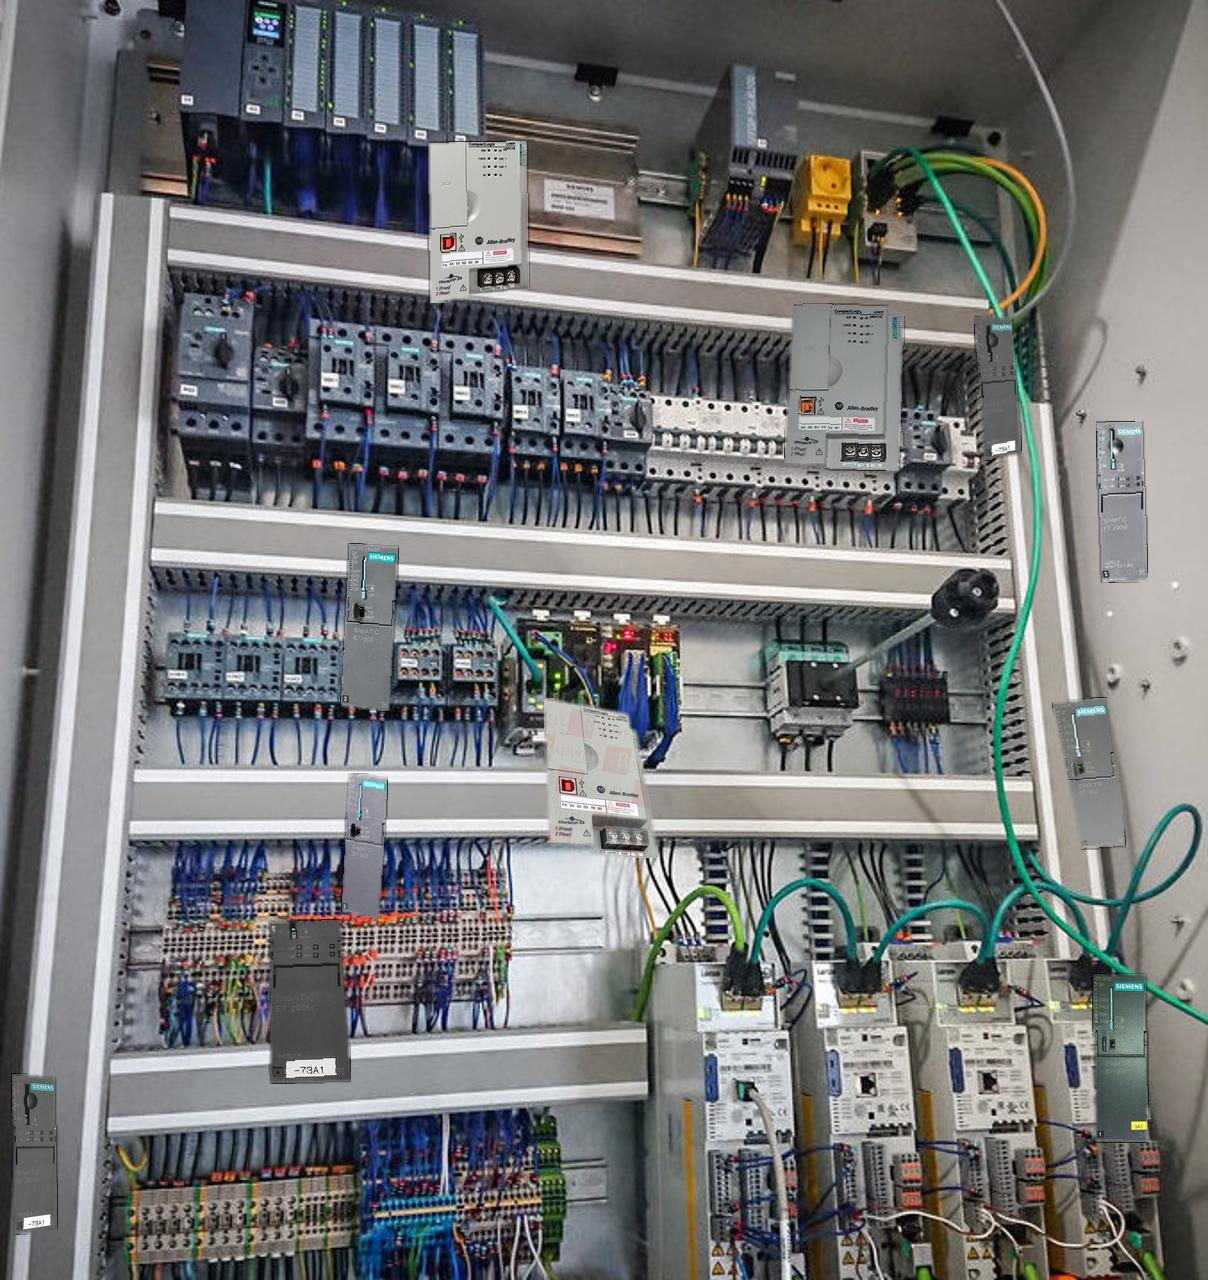AllenBradley: (785, 304, 903, 470), (544, 698, 657, 857), (429, 141, 527, 302)
Siemens: (1052, 698, 1124, 848), (341, 544, 397, 710), (1093, 974, 1147, 1141), (342, 773, 387, 918)
